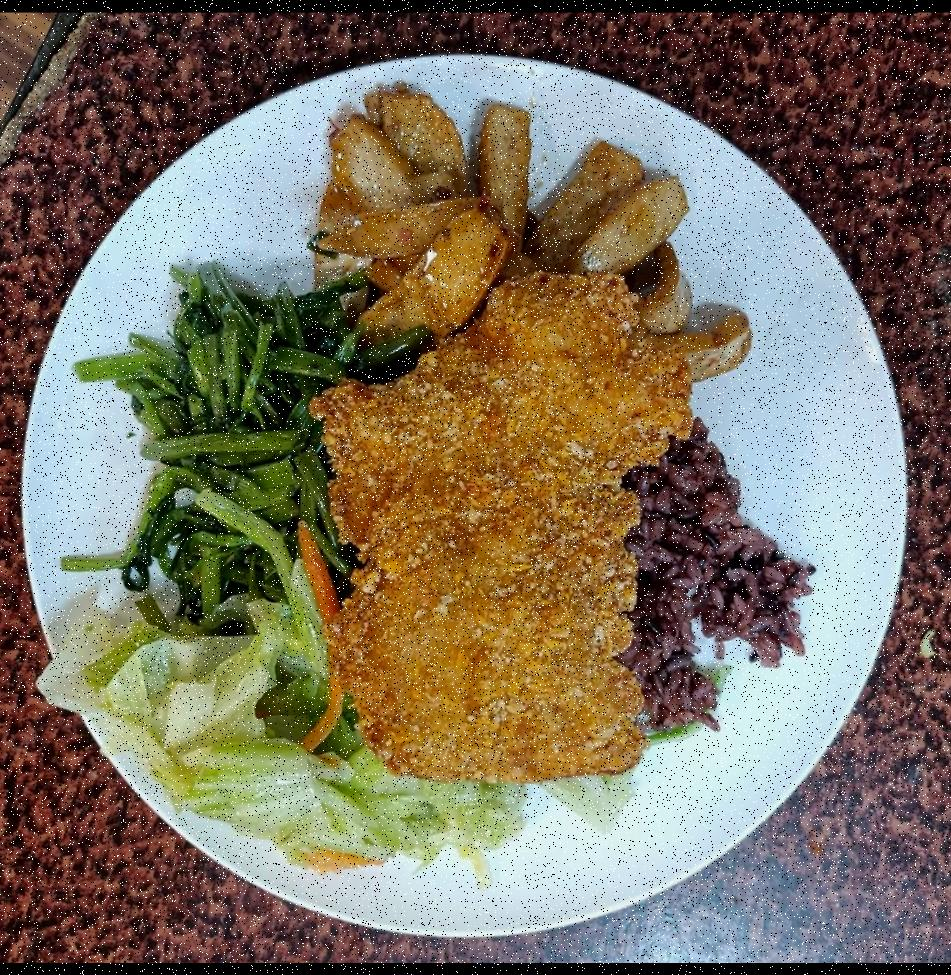chicken steak: (306, 267, 698, 796)
plate: (23, 32, 927, 940)
purple rice: (381, 346, 795, 719)
side dish: (308, 78, 727, 310), (102, 622, 514, 855), (145, 275, 356, 602)
